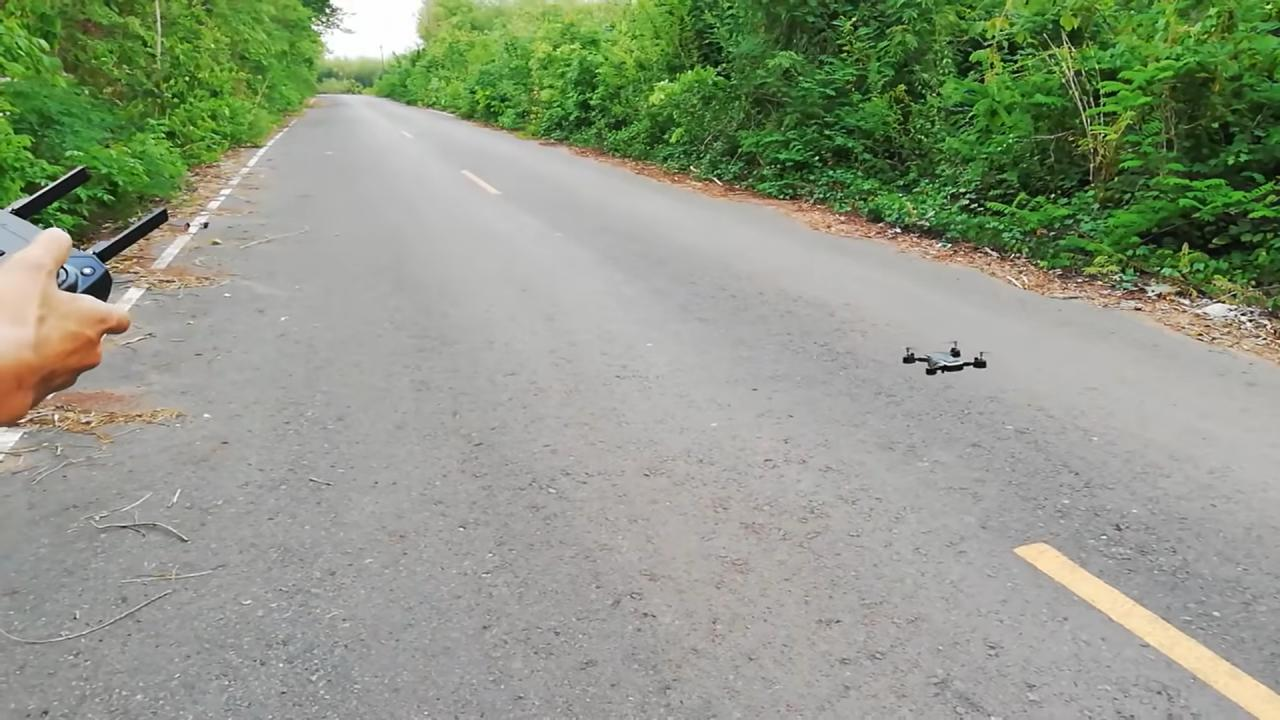Drone: (889, 332, 999, 387)
